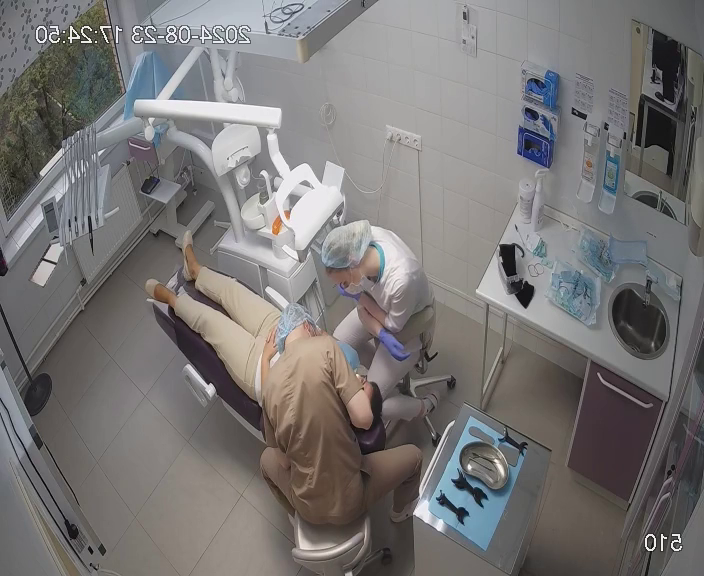Patient: (145, 229, 387, 464)
